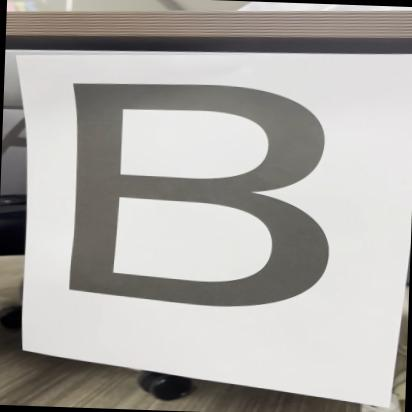seat: (34, 73, 359, 322)
